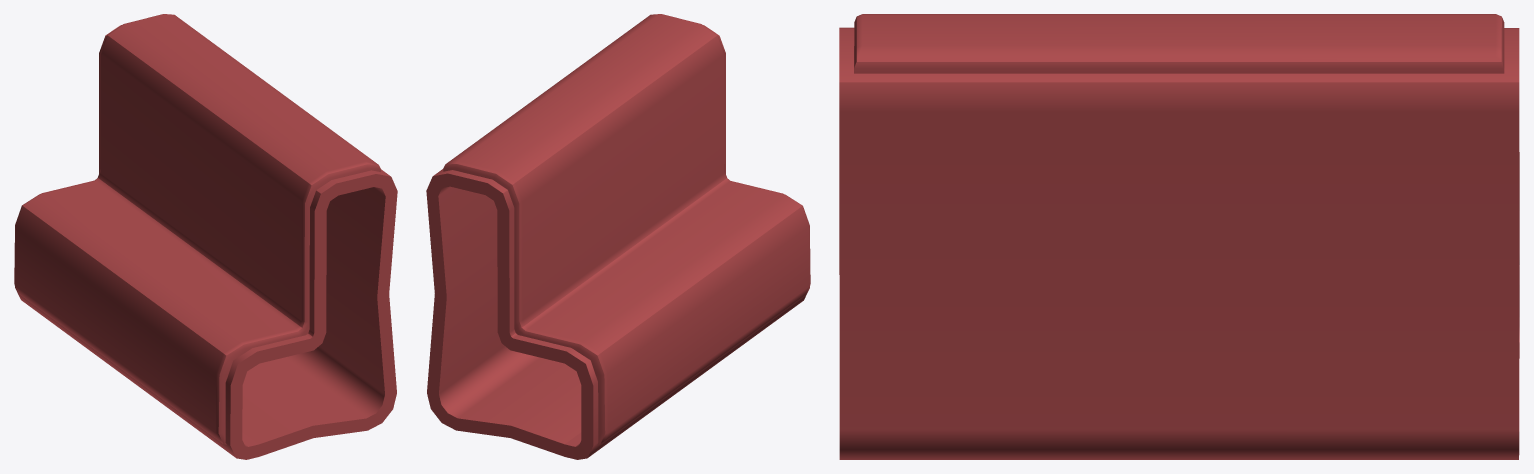
File: Bench01_mesh 1.fbx
3 renders of one model, left to right at view 1: azimuth 30°, elevation 25°; view 2: azimuth 150°, elevation 25°; view 3: azimuth 270°, elevation 25°, orthographic. The views are drawn at different scales.
Parts seen in each view (by area): view 1: Bench01_mesh; view 2: Bench01_mesh; view 3: Bench01_mesh.
Part boxes in pixels (bbox=[...]): Bench01_mesh: bbox=[14, 14, 397, 459]; Bench01_mesh: bbox=[426, 14, 810, 459]; Bench01_mesh: bbox=[839, 14, 1519, 459].
Bounding box in the file's own units: 92.18 × 132 × 197.
